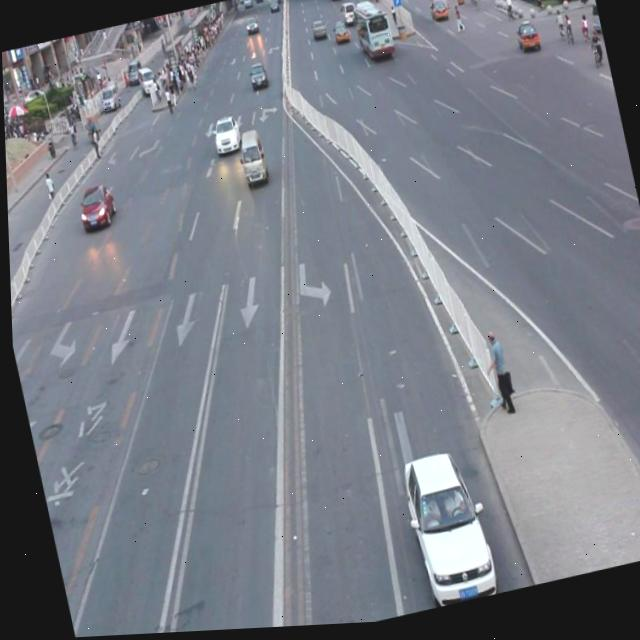car: (392, 445, 493, 614), (73, 181, 117, 232)
truck: (234, 130, 268, 187)
